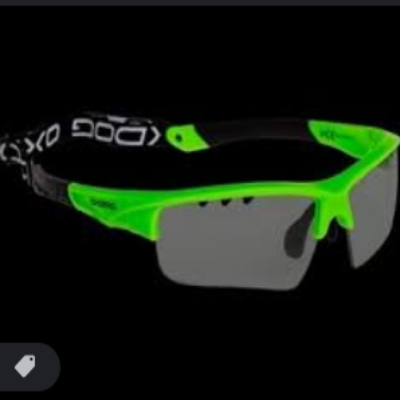glasses: (1, 90, 400, 312)
